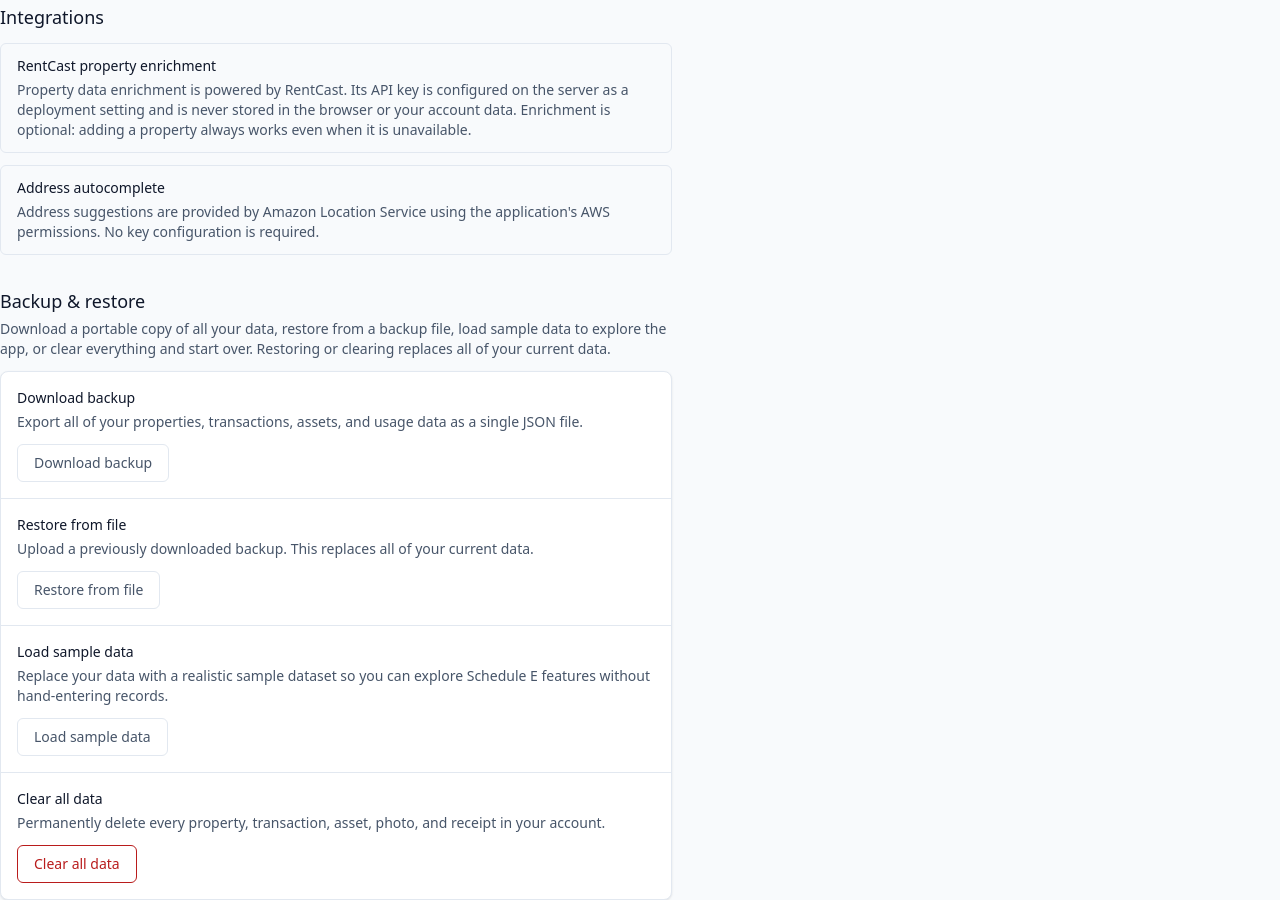
Test case: ProfilePage — Backup & restore: Clear all data (Req 9.1, 9.2) › cancelling the clear dialog makes no request
(page scrolled)
Click the button "Clear all data" at (77, 864), box [17, 845, 137, 883]
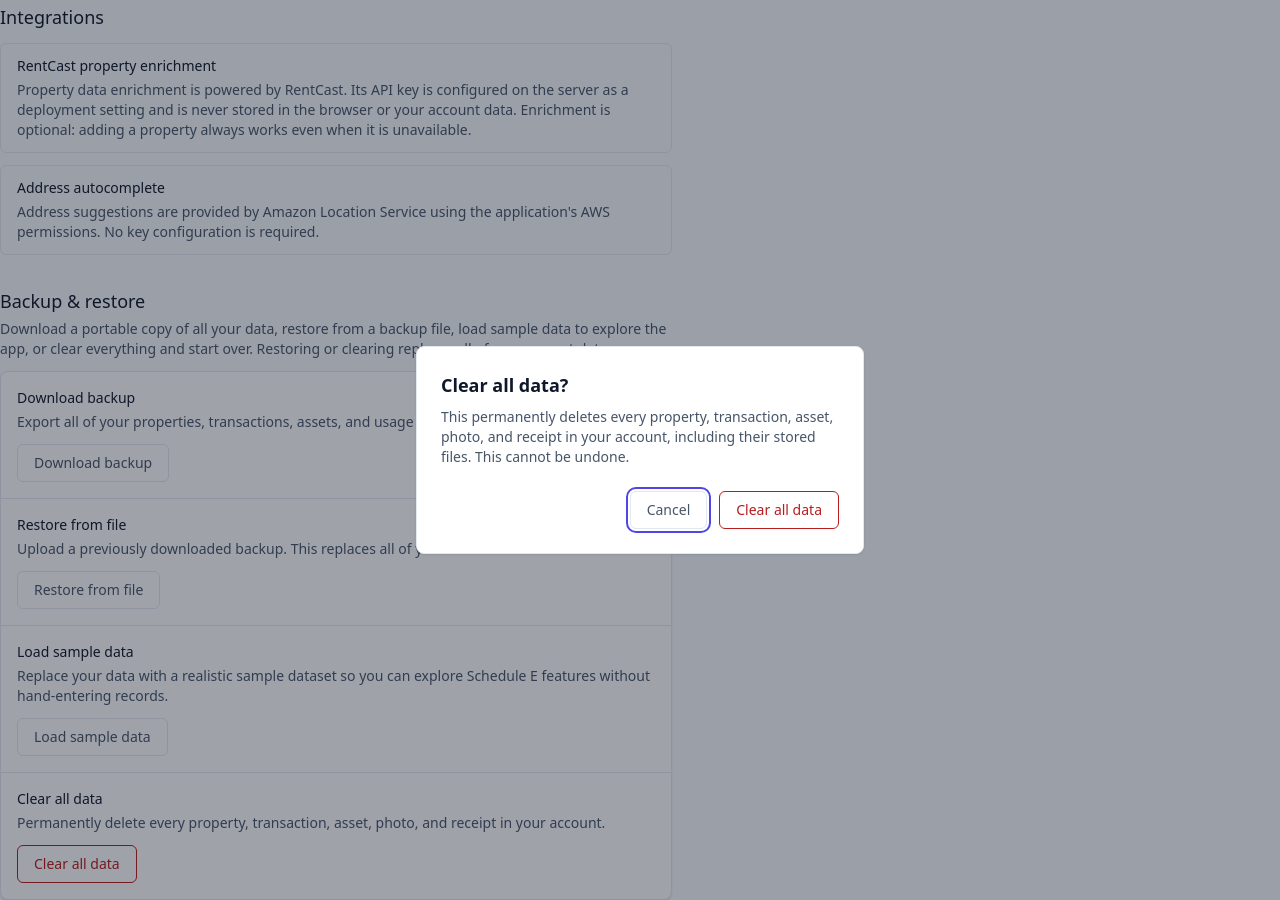
Click the button "Cancel" at (668, 510), box [630, 491, 707, 529]
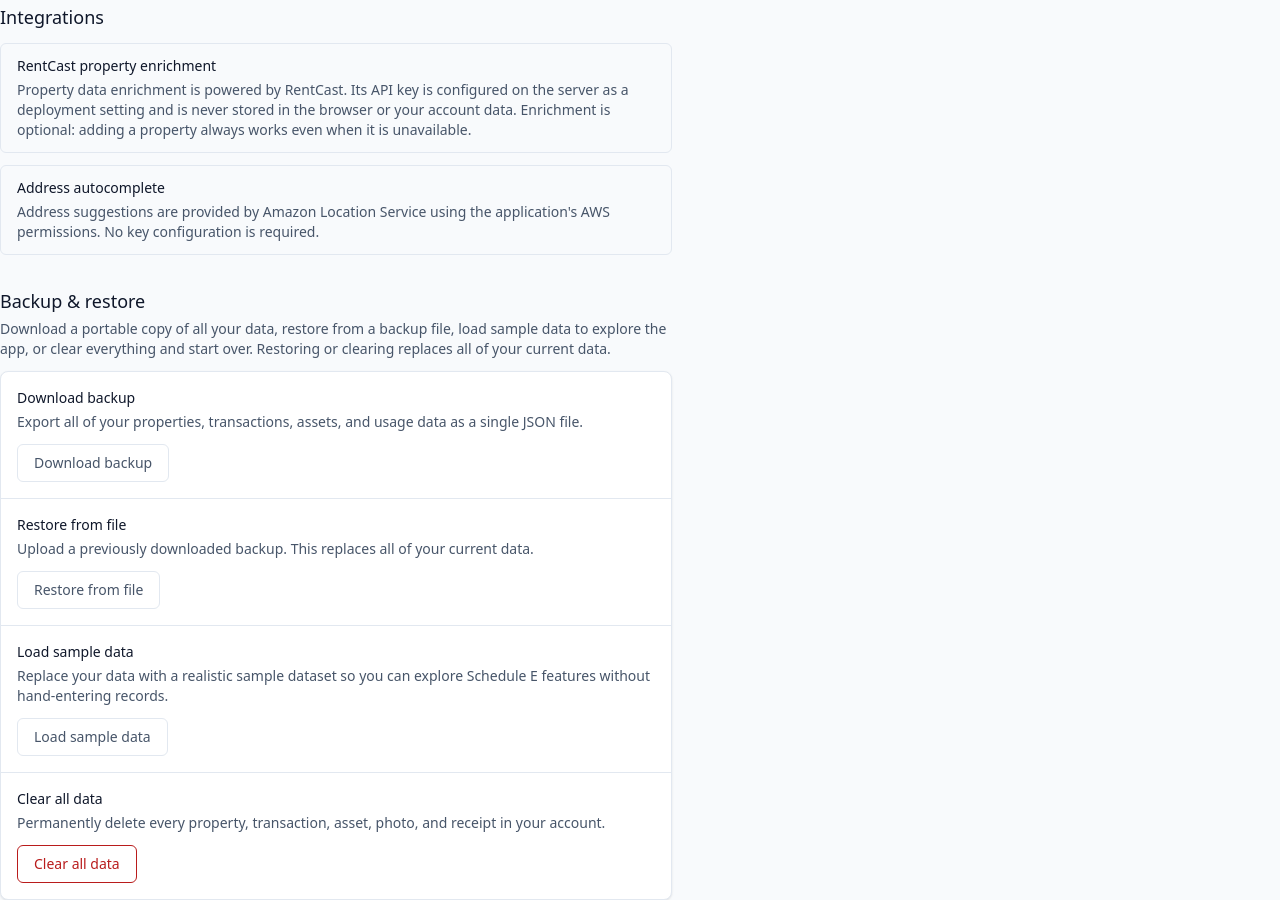
Result: the dialog is gone
